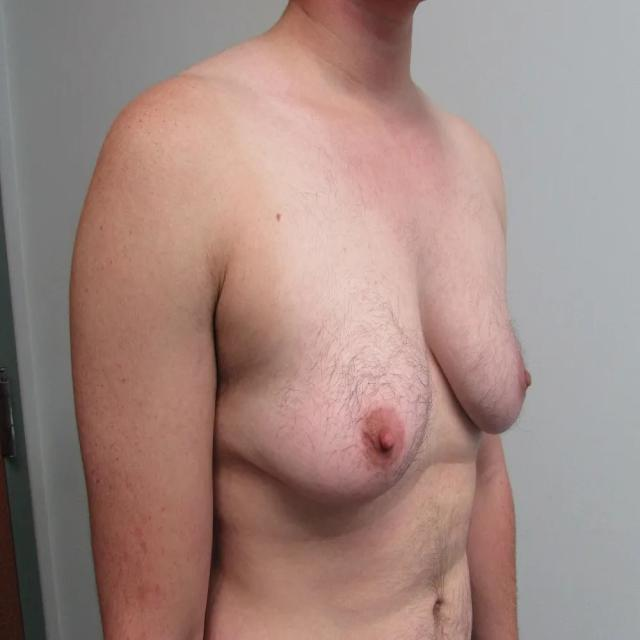Seno ileso: (214, 218, 434, 522), (436, 218, 536, 447)
